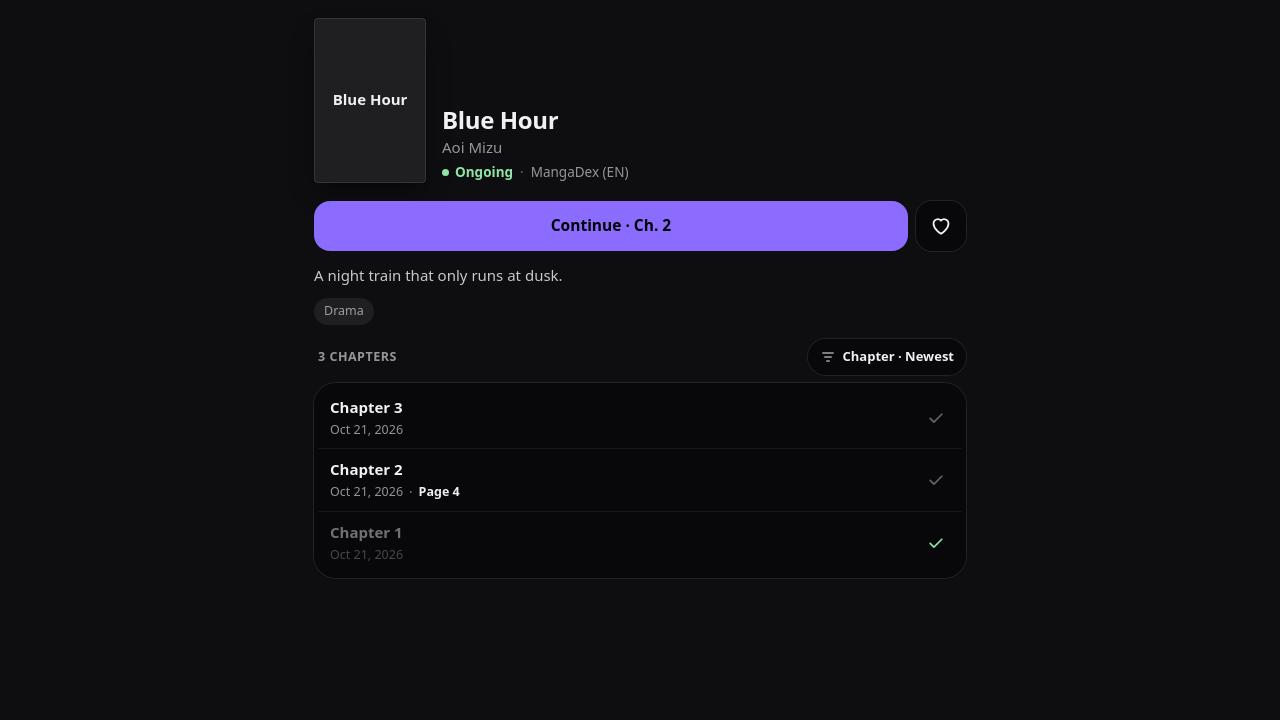
Test: categories › creates a category from the sheet and ticks it
The image size is (1280, 720).
Click the button named "Add to library" at (941, 226), box [916,201,966,251]
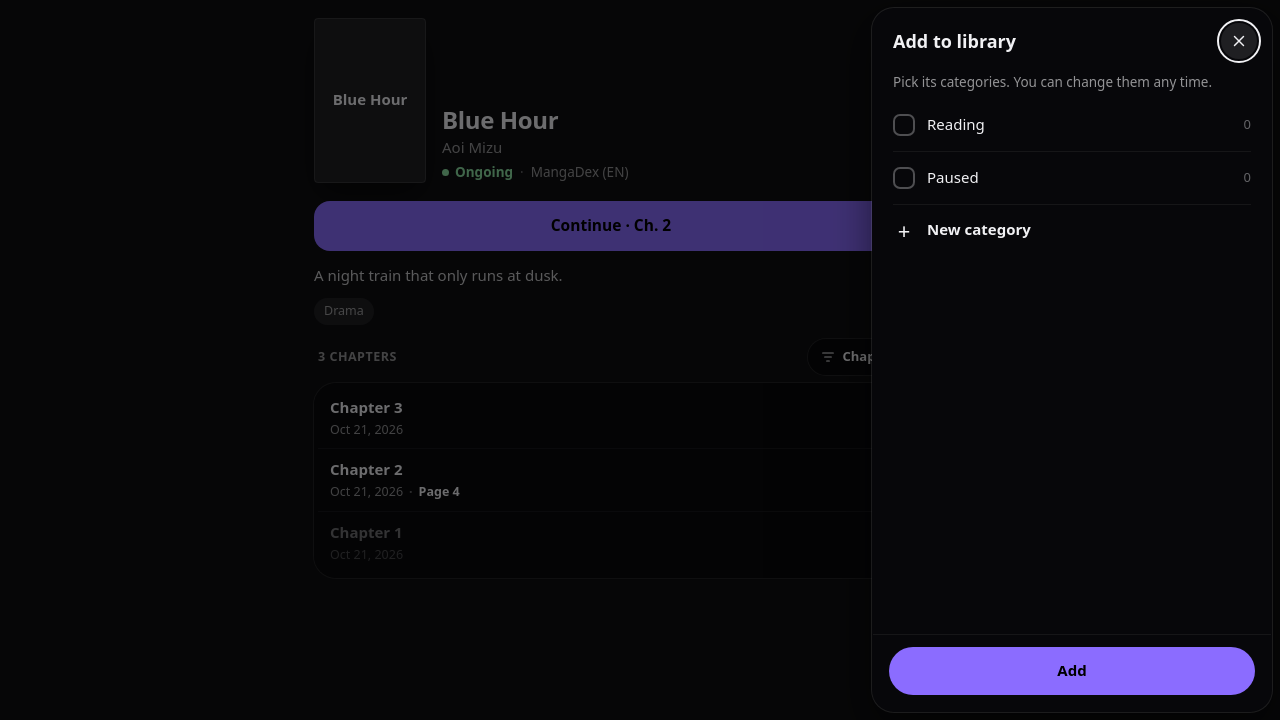
Click the button "+ New category" at (979, 229), box [893,204,1251,256]
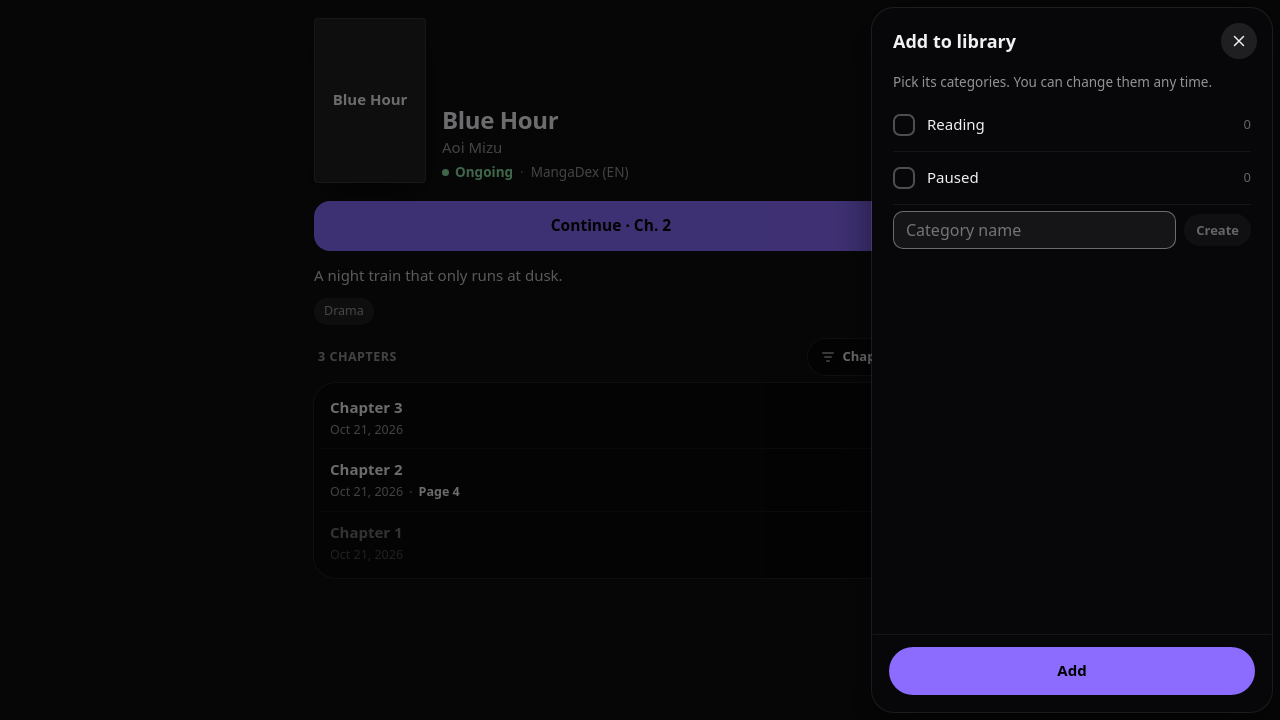
Type "Dropped" into the field labelled "Category name" at (1035, 230), box [893,211,1176,249]
Then press Enter
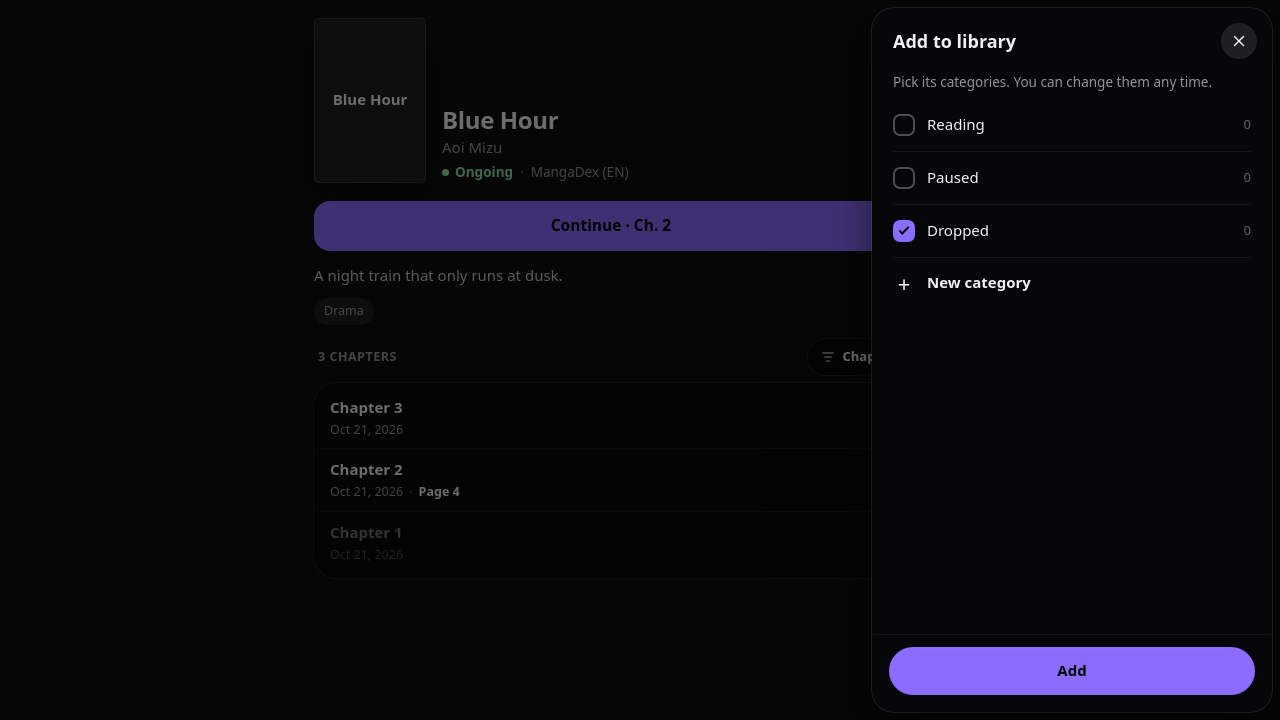
Expected: the checkbox labelled "Dropped 0" is checked, [893,220,915,242]
